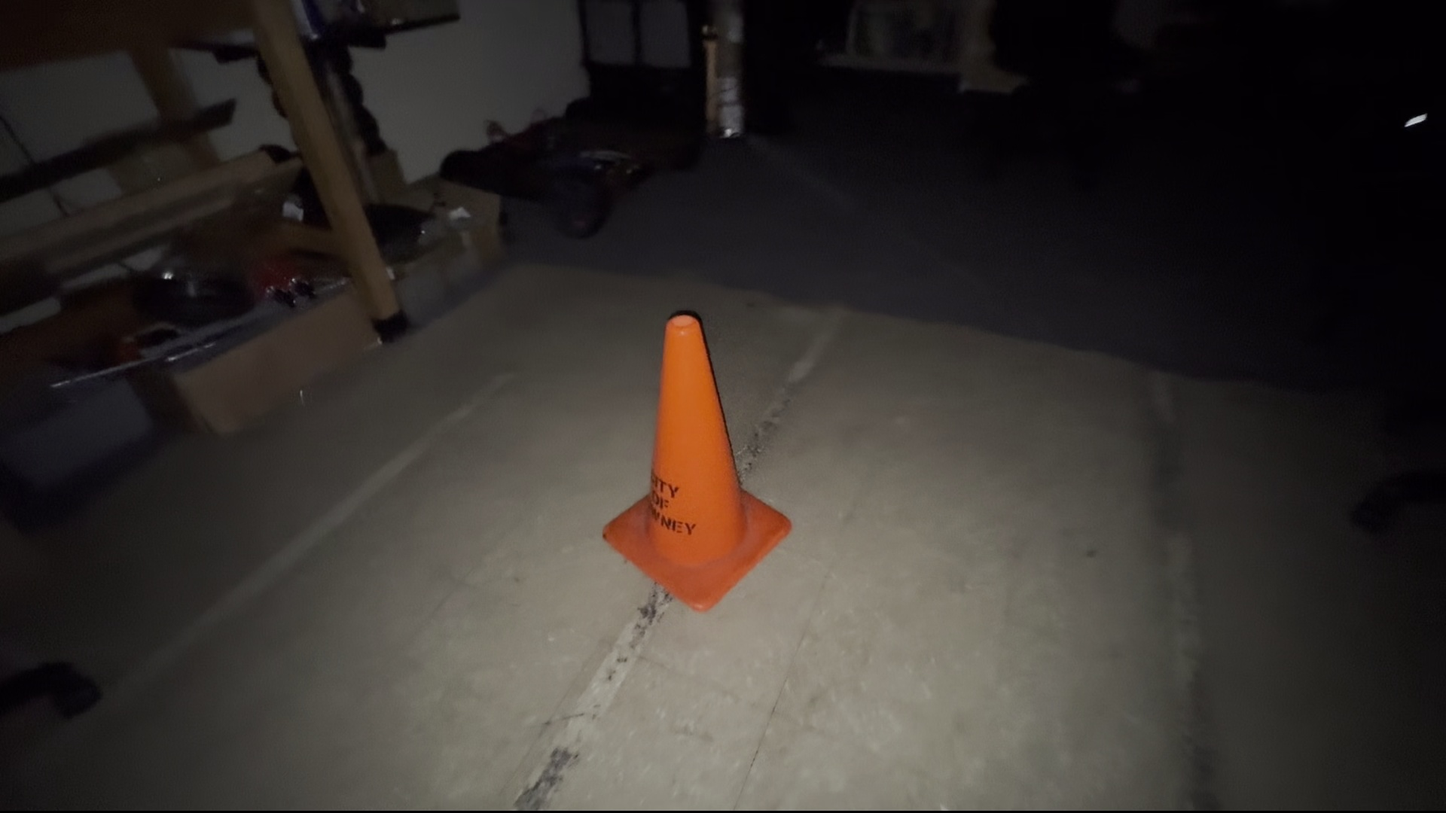traffic_cone: (601, 310, 793, 613)
